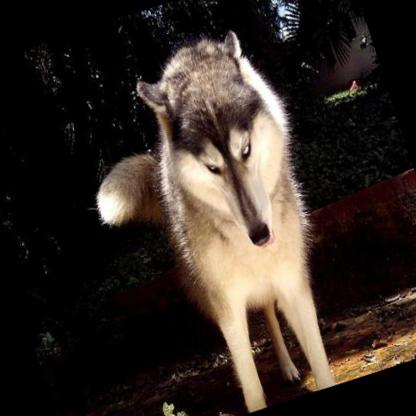Eskimo_dog: (52, 16, 367, 416)
